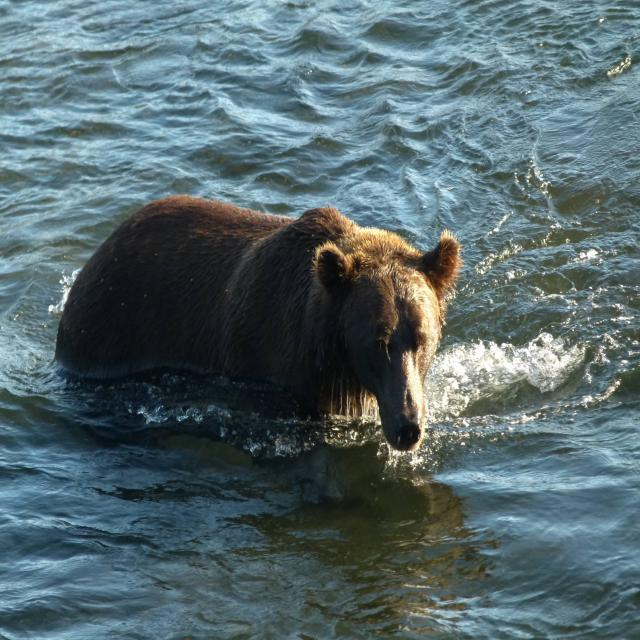bear face: (59, 200, 464, 454)
